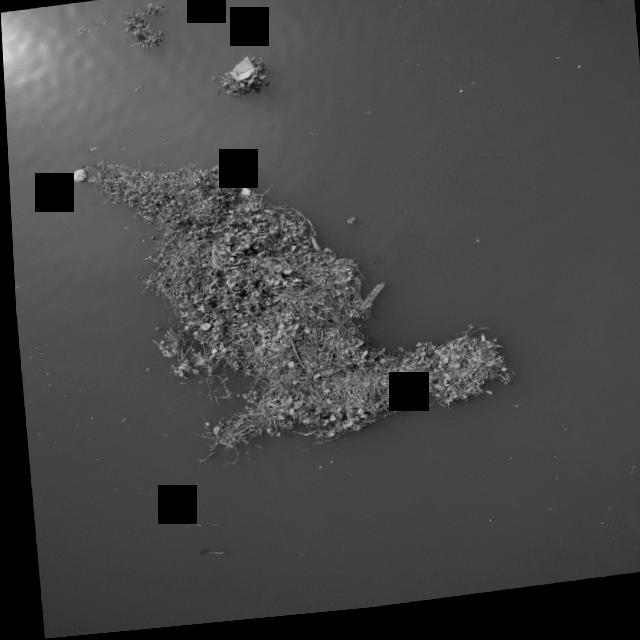plastic: (342, 282, 388, 326), (220, 55, 260, 93), (69, 162, 88, 190), (246, 348, 261, 359), (282, 364, 293, 373), (300, 322, 311, 330), (474, 341, 482, 351), (493, 375, 504, 382)
